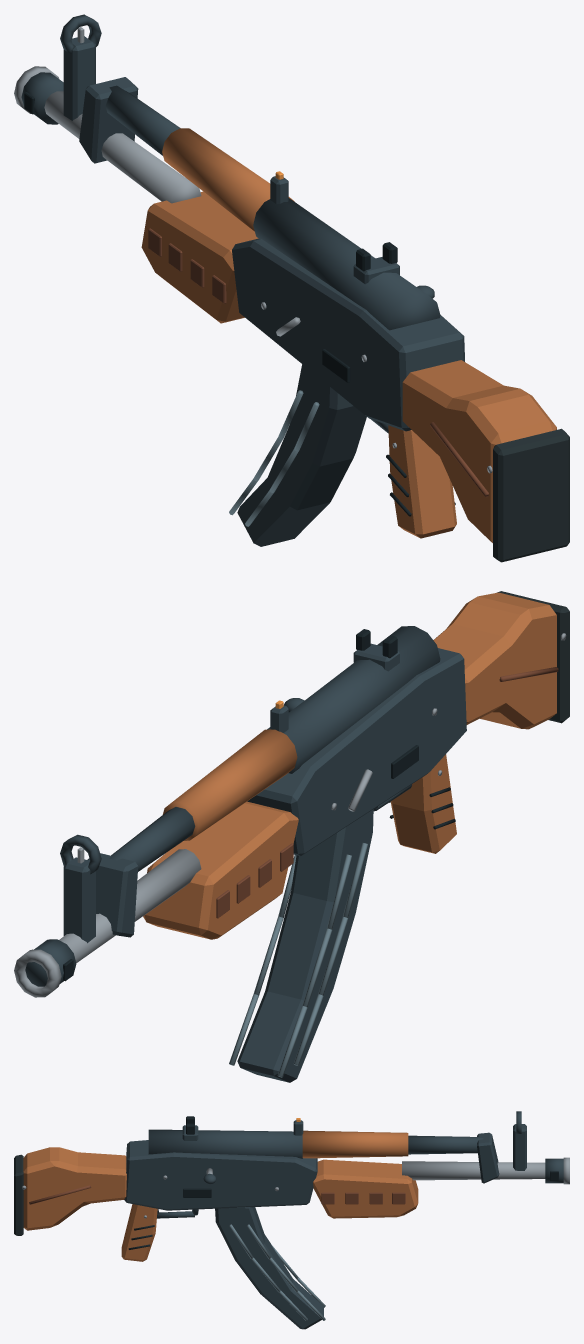
File: WpnAr.glb
3 views of the same model, one above another, from view 1: azimuth 30°, elevation 25°; view 2: azimuth 150°, elevation 25°; view 3: azimuth 270°, elevation 25° (orthographic). The views are drawn at different scales.
Parts seen in each view (by area): view 1: WpnAr; view 2: WpnAr; view 3: WpnAr.
Boxes of the visible parts, bbox=[...] form: WpnAr: bbox=[14, 14, 569, 562]; WpnAr: bbox=[14, 591, 569, 1082]; WpnAr: bbox=[14, 1111, 569, 1329].
Size of the model in its own units: 0.1348 by 0.4357 by 1.04.
